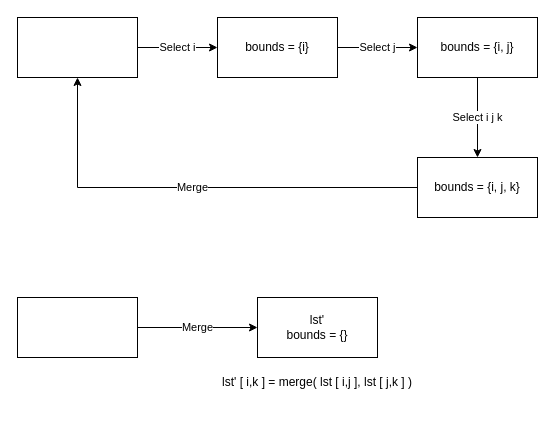
This 555x425 diagram has some shape labels left out. The shapes that lost their labels are listed below. From the top down, each one's centre as x and y in pixels, then its label:
At point (77, 47): "bounds = {}".
At point (77, 327): "lst bounds = {i, j, k}".
